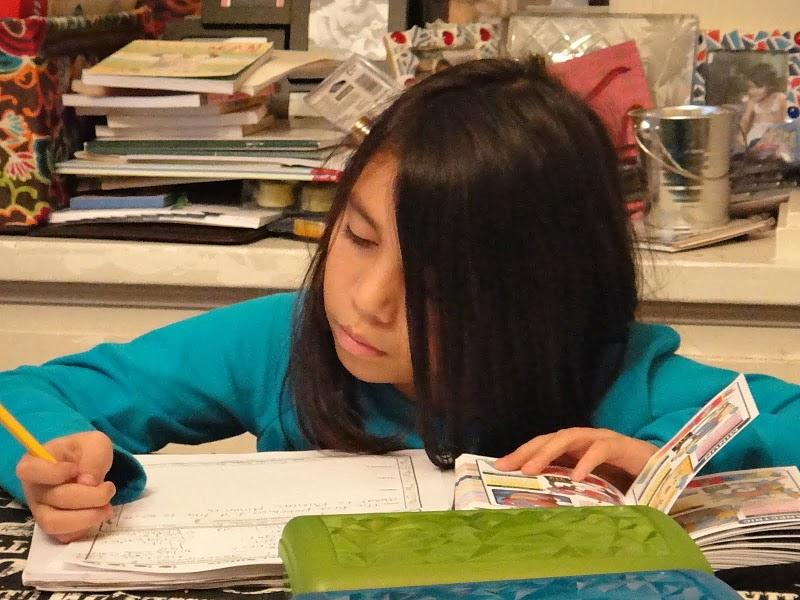person: (3, 65, 800, 547)
